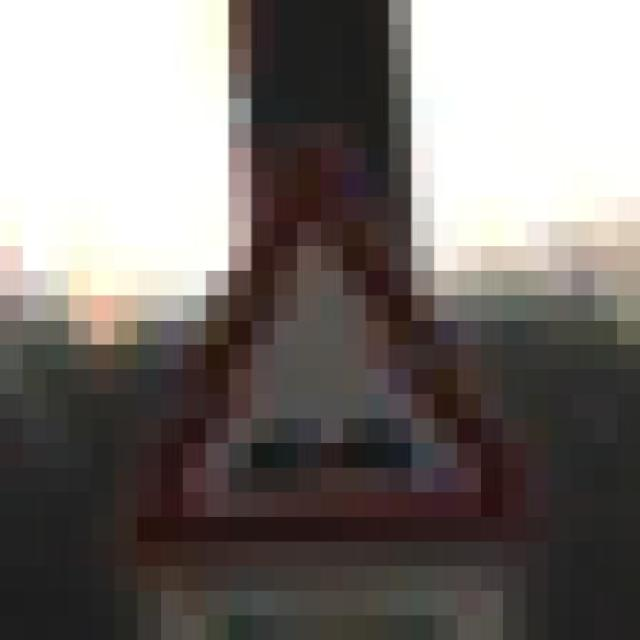Uneven Road: (114, 123, 526, 566)
